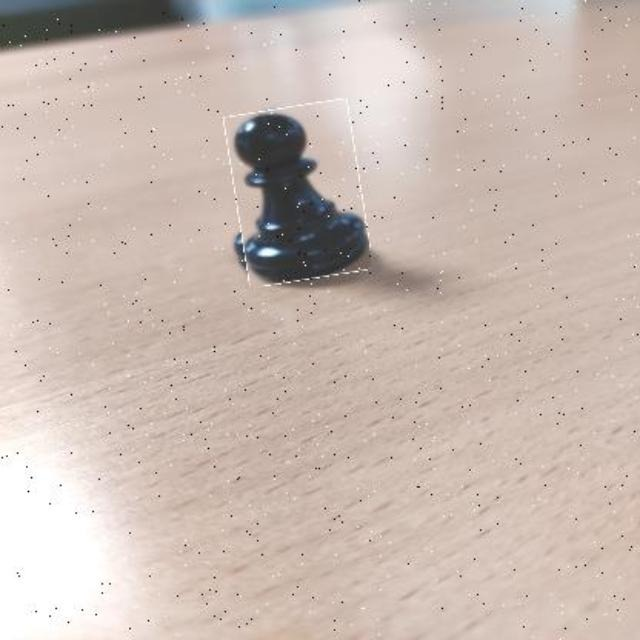black-pawn: (230, 103, 366, 284)
